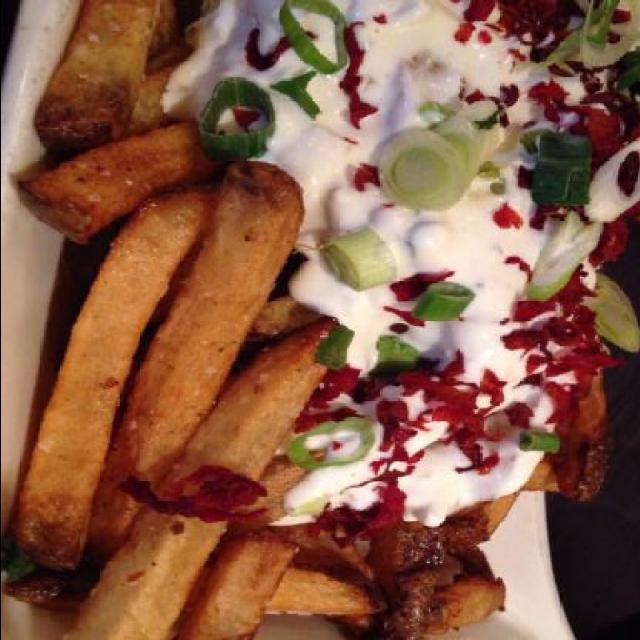French fries: (1, 0, 621, 640)
